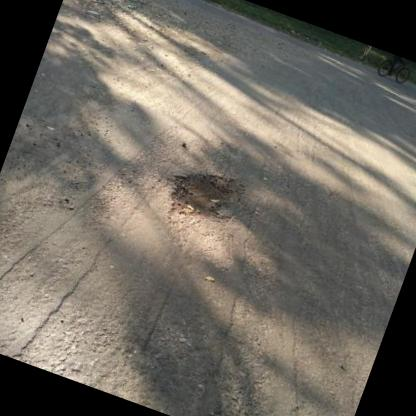pothole: (155, 155, 251, 238)
